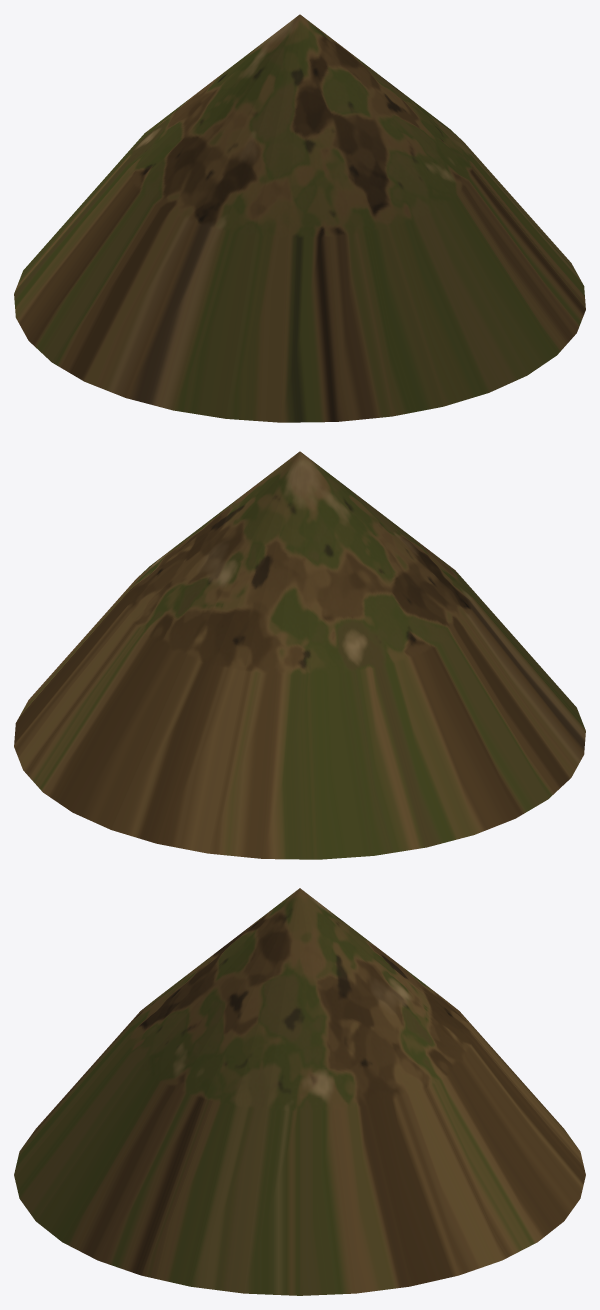
Rendered from L sharp.glb.
3 renders of one model, top to bottom at view 1: azimuth 30°, elevation 25°; view 2: azimuth 150°, elevation 25°; view 3: azimuth 270°, elevation 25°, orthographic.
Visible parts, largest first — view 1: L sharp; view 2: L sharp; view 3: L sharp.
Part boxes in pixels (x1,y1,x2,y2): L sharp: (14,14,585,422); L sharp: (14,451,585,859); L sharp: (14,888,585,1295).
Size of the model in its own units: 0.5039 by 0.2791 by 0.5039.
Materials: 1 (1 with a texture image).
